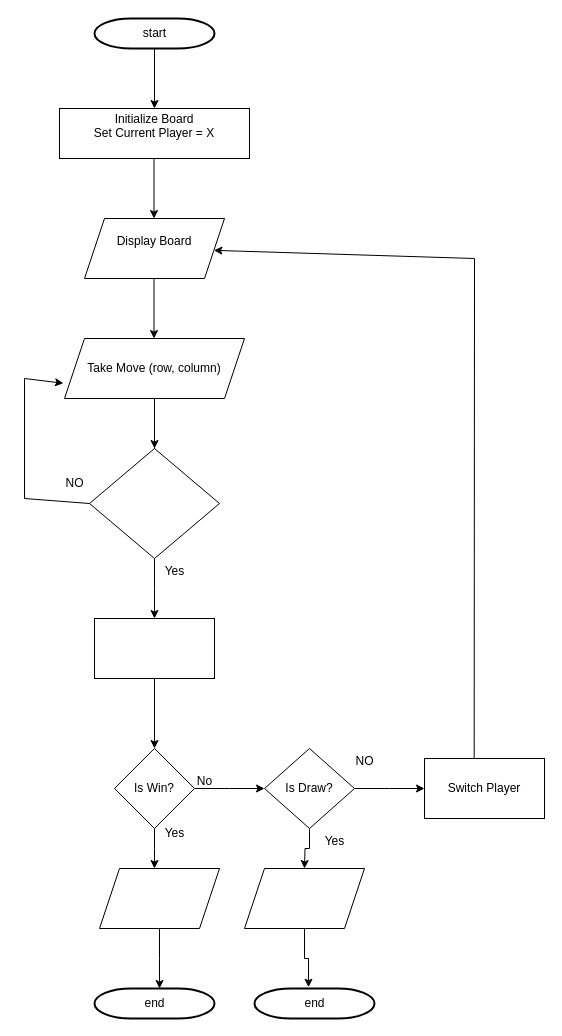
Image size: 562x1036. Some labels were removed from this diagram. Here are the shapes that lost their labels. From the top down, the box of each, then its label:
(88, 448, 220, 558): Is Valid Move?
(94, 618, 214, 678): Update Board
(98, 868, 220, 928): Print Winner
(244, 868, 364, 928): Print Draw
